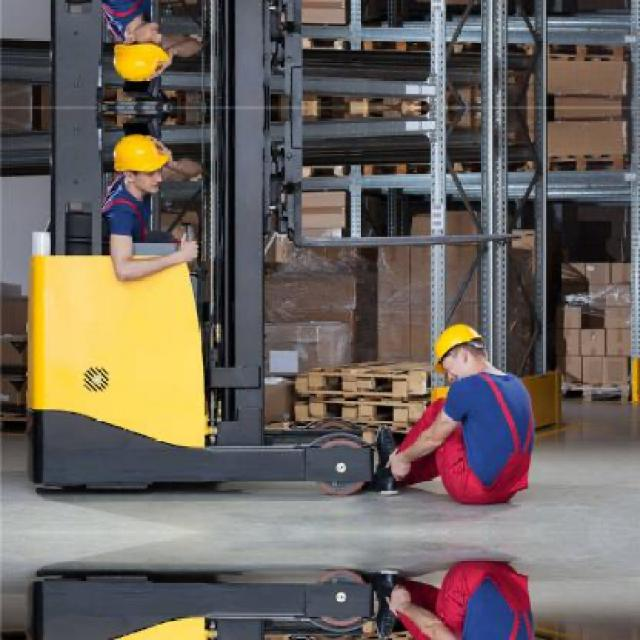helmet: (428, 312, 494, 386), (101, 131, 176, 194), (101, 20, 176, 83)
